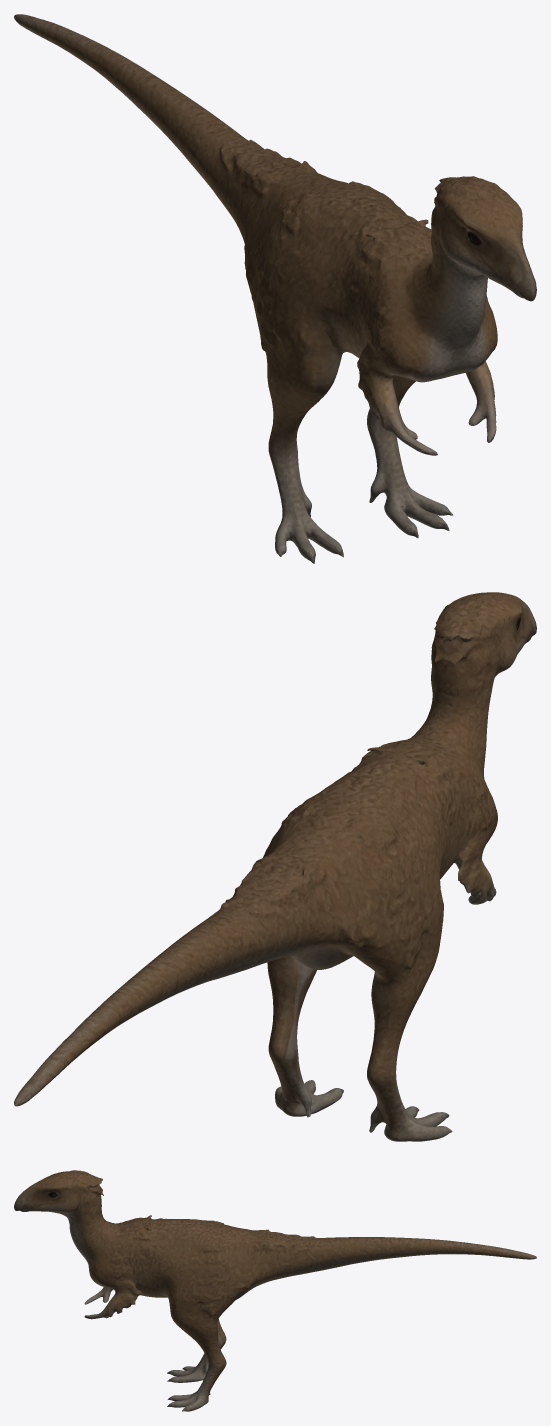
Rendered from Kulindadromeus.glb.
The picture shows the model from 3 angles, top to bottom: view 1: azimuth 30°, elevation 25°; view 2: azimuth 150°, elevation 25°; view 3: azimuth 270°, elevation 25°; orthographic projection. The views are drawn at different scales.
Bounding box in the file's own units: 0.3647 × 0.8785 × 1.9.
1 material, 1 textured.
